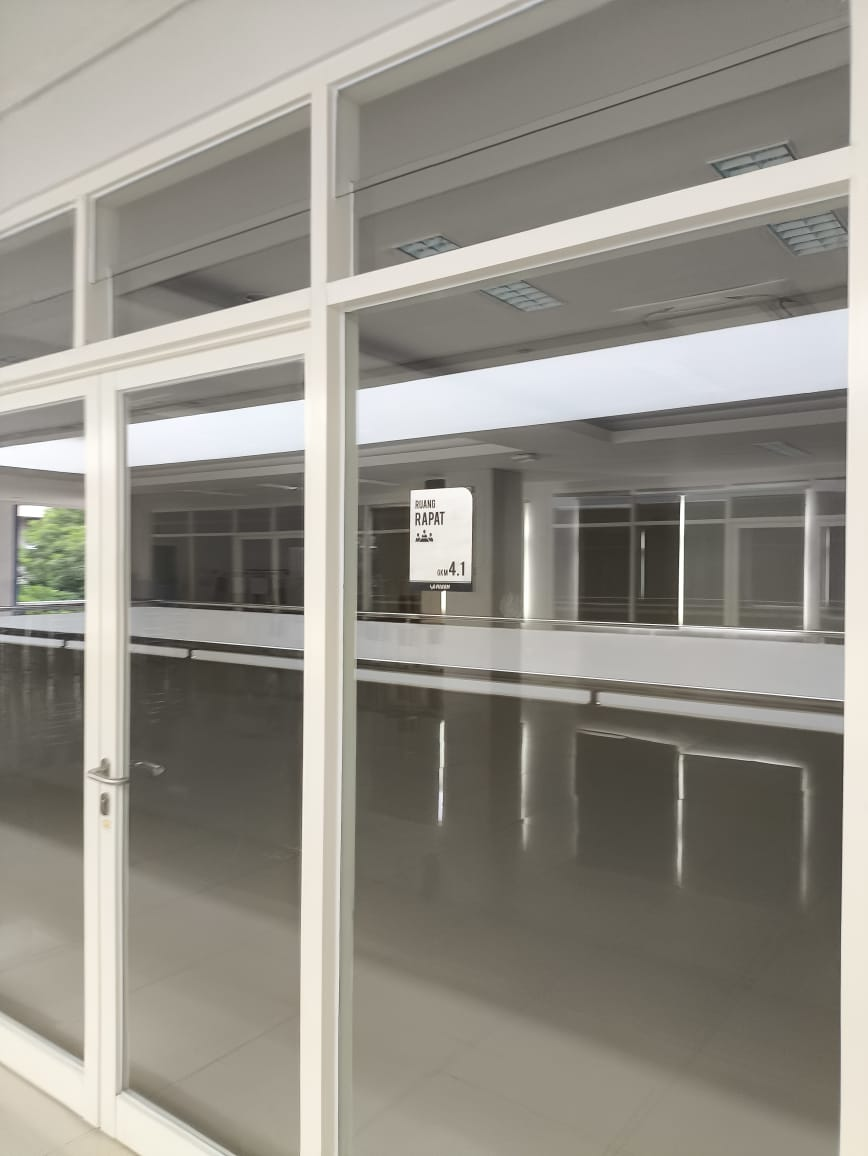ruang rapat: (399, 485, 479, 596)
